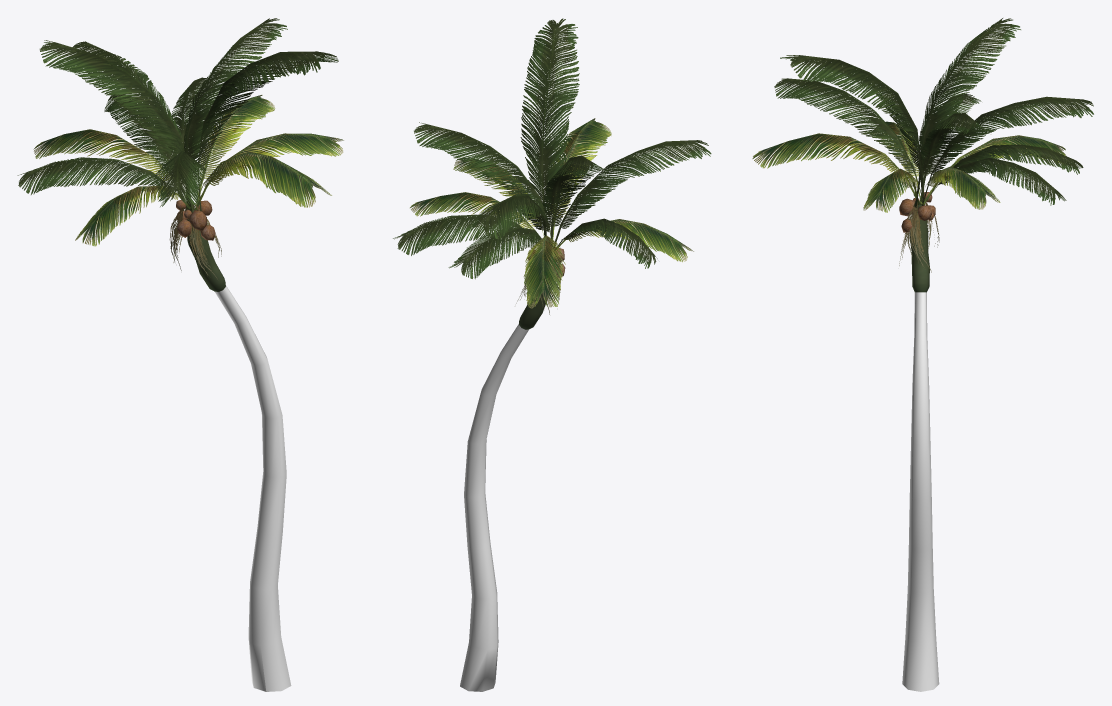
Rendered from kin_2s_Hi.fbx.
3 renders of one model, left to right at view 1: azimuth 30°, elevation 25°; view 2: azimuth 150°, elevation 25°; view 3: azimuth 270°, elevation 25°, orthographic. The views are drawn at different scales.
Visible parts, largest first — view 1: kin_Hi; view 2: kin_Hi; view 3: kin_Hi.
Part boxes in pixels (bbox=[...]): kin_Hi: bbox=[17, 18, 343, 691]; kin_Hi: bbox=[393, 18, 711, 691]; kin_Hi: bbox=[752, 18, 1093, 691].
Size of the model in its own units: 2212 by 5127 by 2614.
